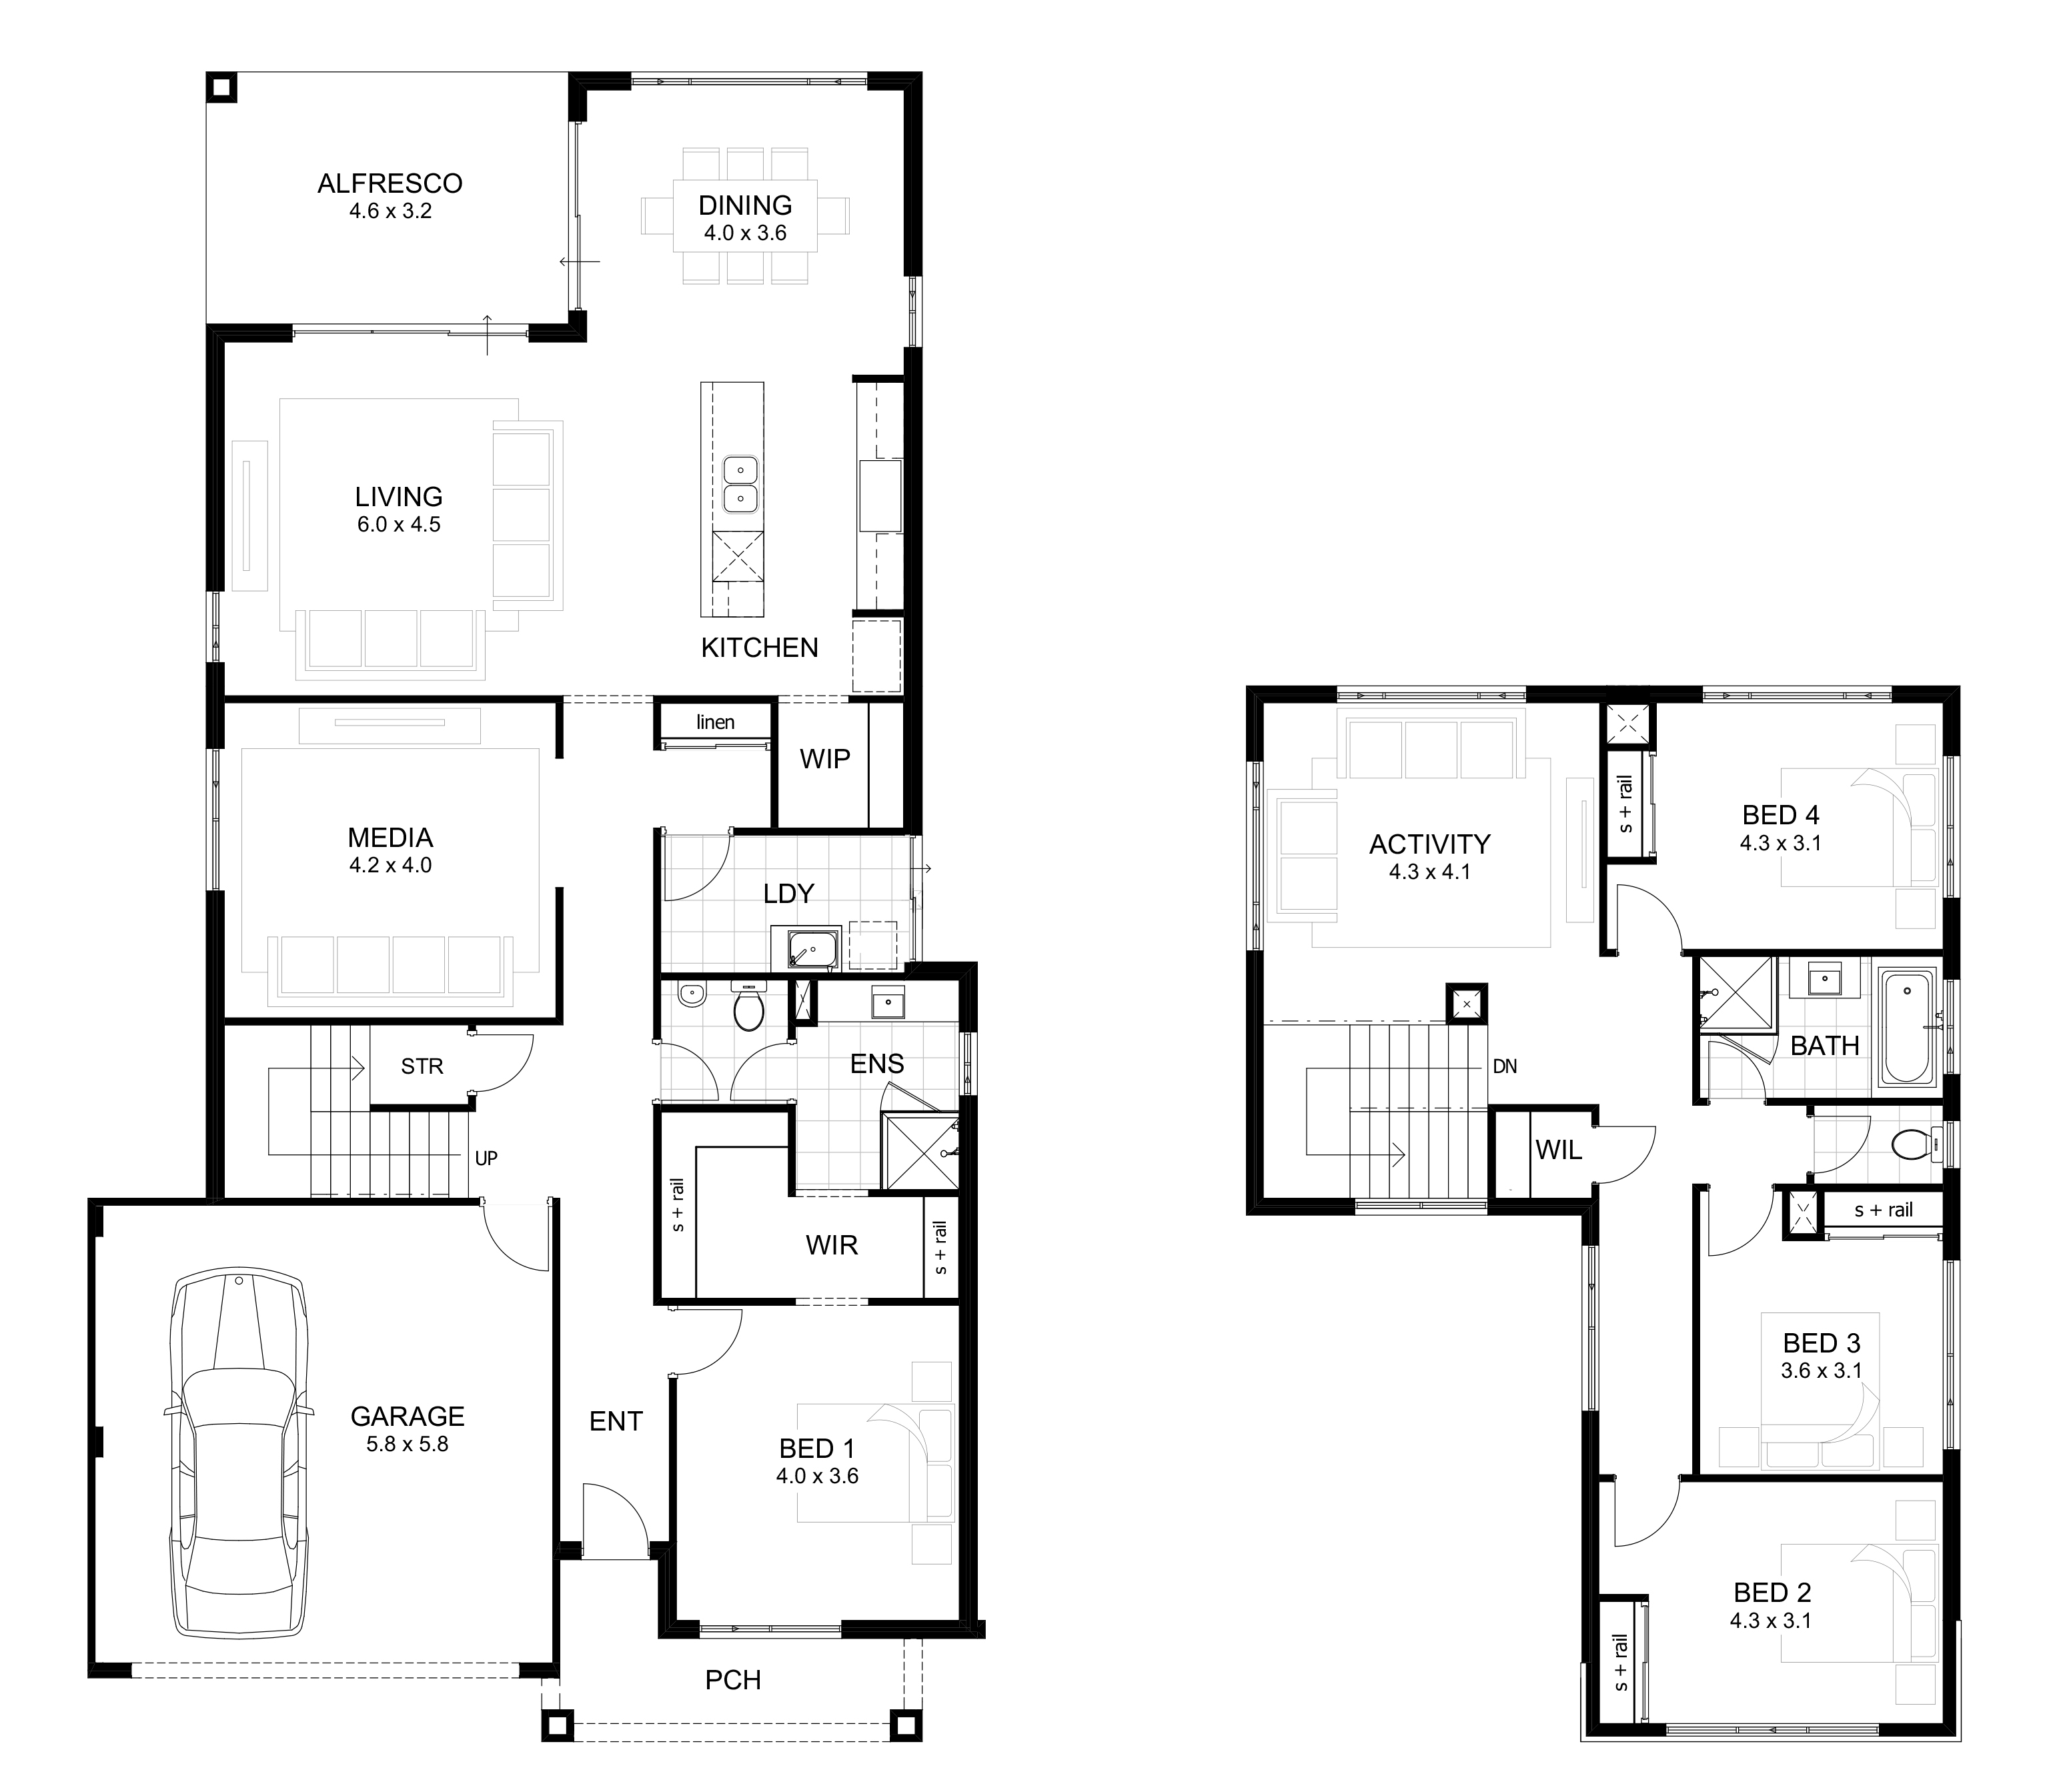window: (627, 70, 874, 93), (1661, 1720, 1882, 1745), (1243, 758, 1268, 955), (1577, 1244, 1605, 1416), (1939, 1257, 1963, 1453), (1335, 683, 1529, 706), (1700, 683, 1895, 706), (202, 744, 228, 893), (1940, 755, 1965, 902), (1352, 1195, 1494, 1218), (1939, 978, 1965, 1076), (901, 274, 925, 351), (204, 590, 225, 665)
